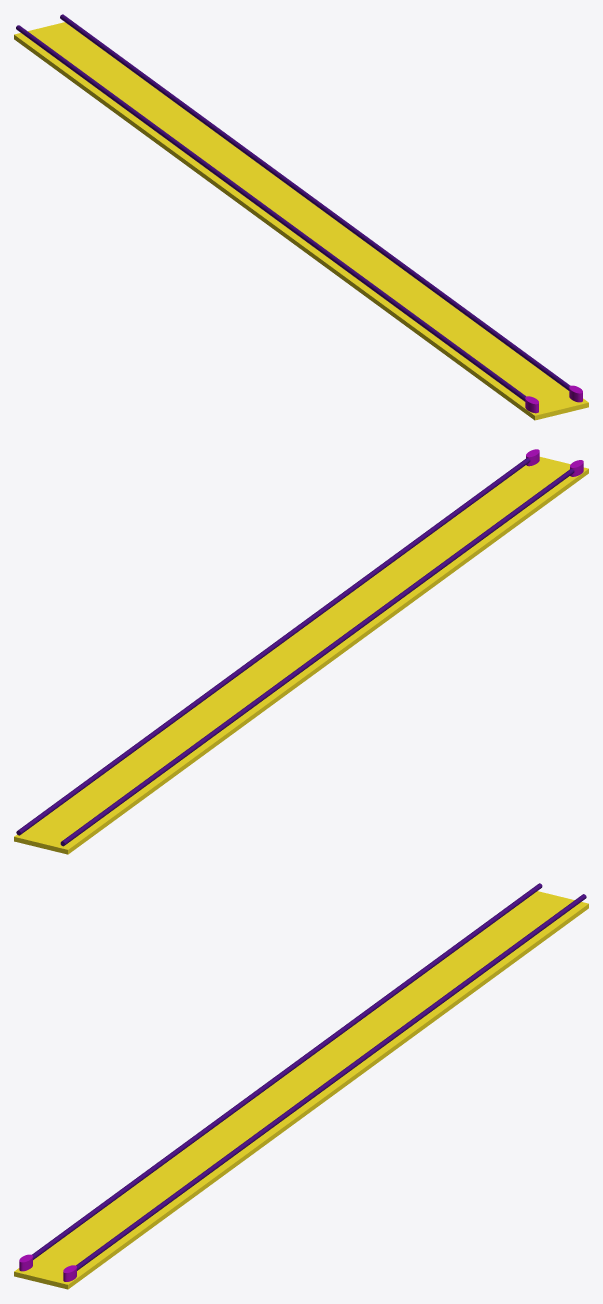
The model's file is BaseTronco.fbx.
3 renders of one model, top to bottom at view 1: azimuth 30°, elevation 25°; view 2: azimuth 150°, elevation 25°; view 3: azimuth 330°, elevation 25°, orthographic.
Parts seen in each view (by area): view 1: Base Tronco; view 2: Base Tronco; view 3: Base Tronco.
Boxes of the visible parts, x1,y1,x2,y2 form: Base Tronco: (14, 14, 588, 420); Base Tronco: (14, 449, 588, 854); Base Tronco: (14, 883, 588, 1289).
Bounding box in the file's own units: 600 × 145 × 10011.
1 material, 1 textured.
